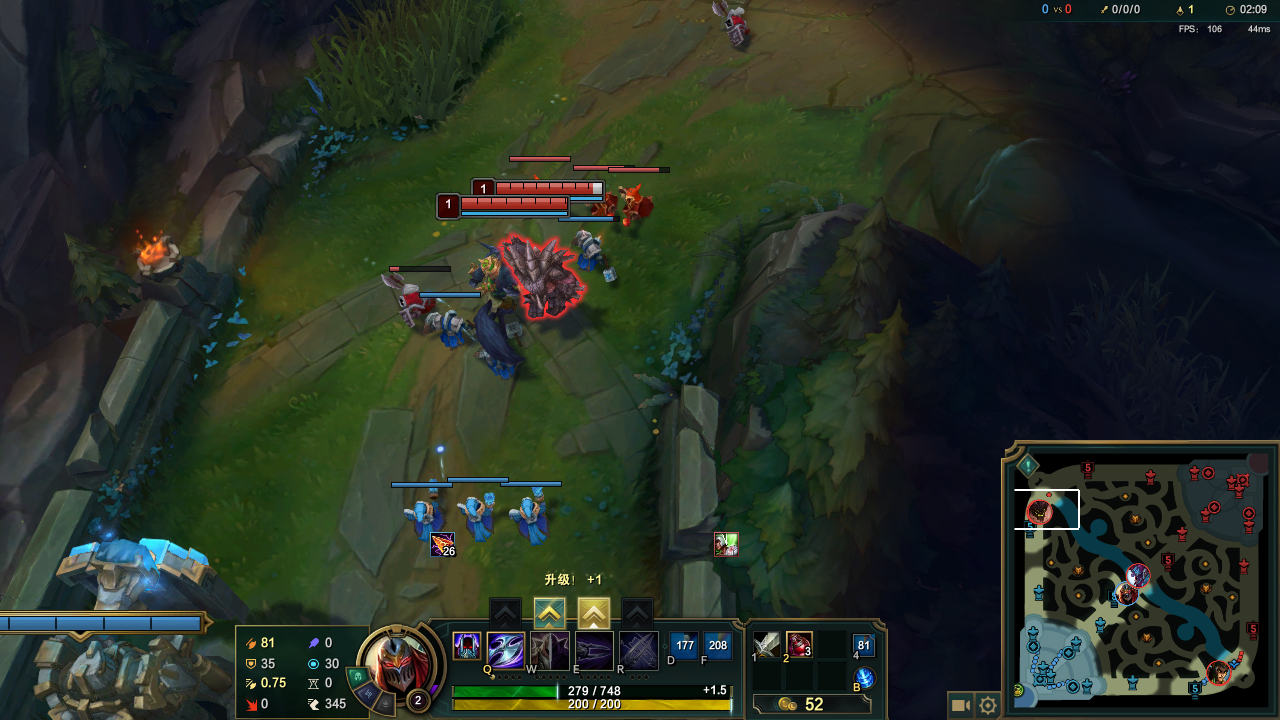DFYX: (460, 198, 563, 211), (494, 183, 602, 194)
Yita: (1185, 673, 1203, 700)
